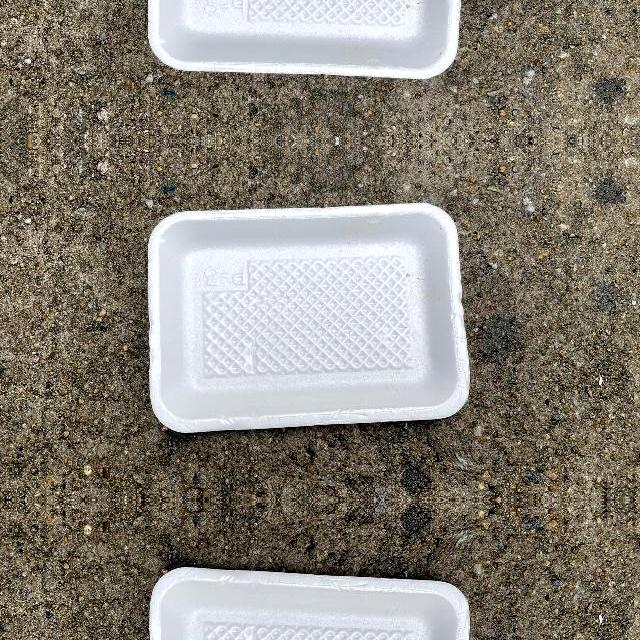Styrofoam: (148, 201, 472, 435), (148, 202, 470, 432), (147, 0, 472, 79), (147, 563, 472, 640), (148, 0, 461, 78), (149, 566, 470, 640)
